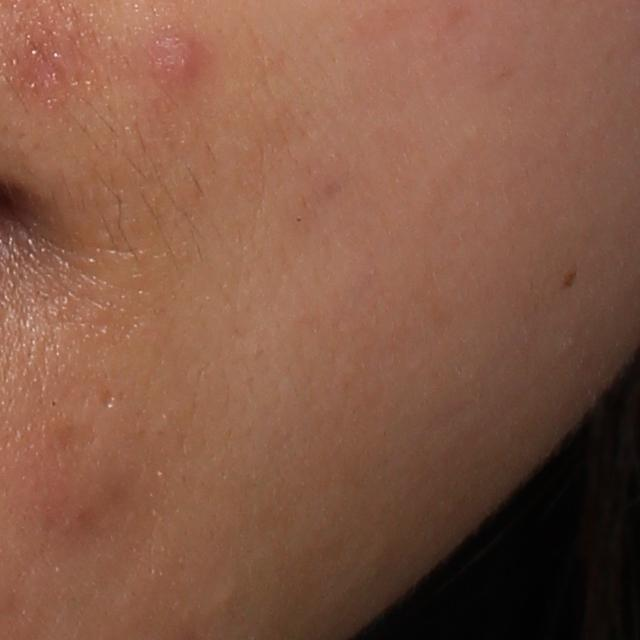atrophic_scar: (98, 385, 118, 412)
comedo: (211, 573, 245, 615)
nevus: (562, 266, 578, 290)
papule: (147, 34, 202, 91)
